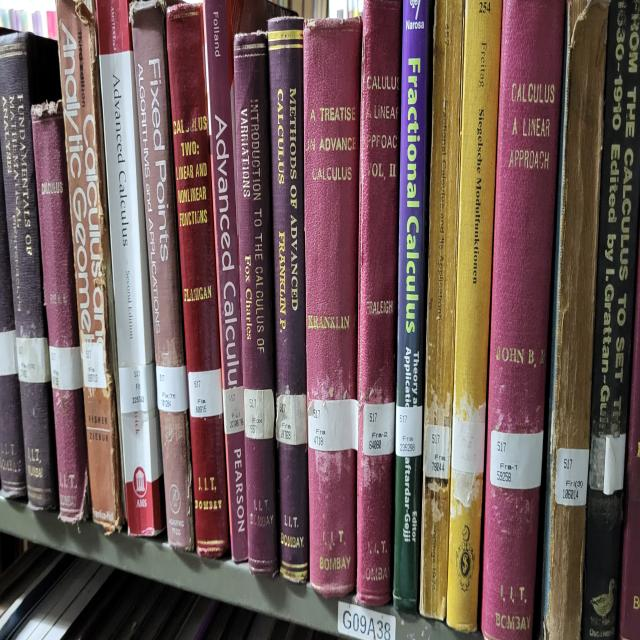Book: (481, 0, 564, 639), (420, 0, 501, 633), (542, 0, 609, 639), (581, 0, 640, 639), (96, 0, 165, 536), (130, 0, 195, 549), (166, 5, 230, 557), (446, 0, 501, 630), (59, 0, 124, 530), (304, 19, 361, 595), (0, 32, 60, 509), (356, 0, 401, 606), (204, 0, 248, 563), (31, 100, 89, 522), (234, 32, 278, 574), (268, 19, 309, 582), (394, 0, 429, 611), (0, 152, 26, 498), (620, 235, 640, 639)
Label: (490, 430, 544, 490), (308, 398, 359, 452), (555, 449, 589, 506), (451, 417, 485, 473), (119, 363, 156, 414), (362, 403, 395, 457), (275, 395, 308, 446), (188, 368, 222, 417), (16, 338, 51, 384), (156, 365, 189, 411), (602, 433, 626, 495), (244, 390, 275, 438), (50, 346, 82, 390), (425, 425, 451, 479), (395, 406, 422, 457), (82, 341, 106, 390), (222, 384, 245, 433), (0, 330, 18, 376)
